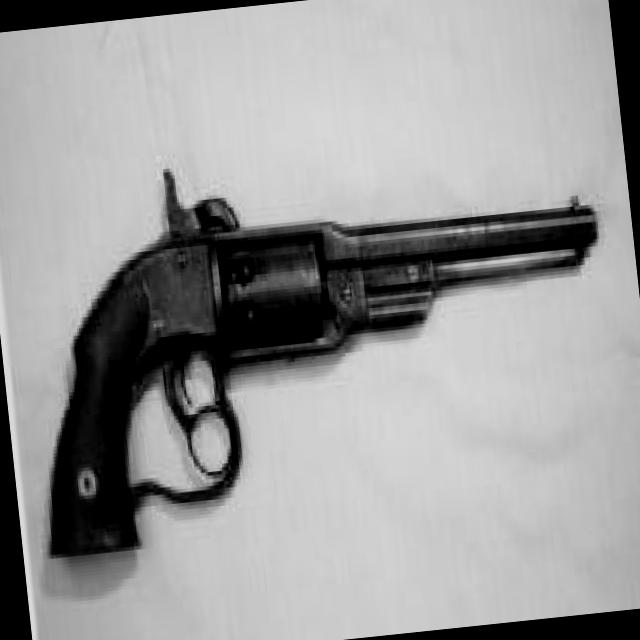handgun: (3, 96, 628, 559)
